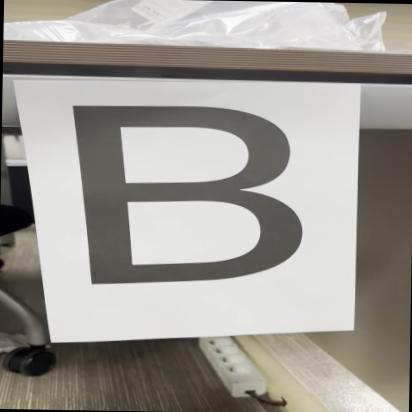seat: (37, 96, 330, 297)
